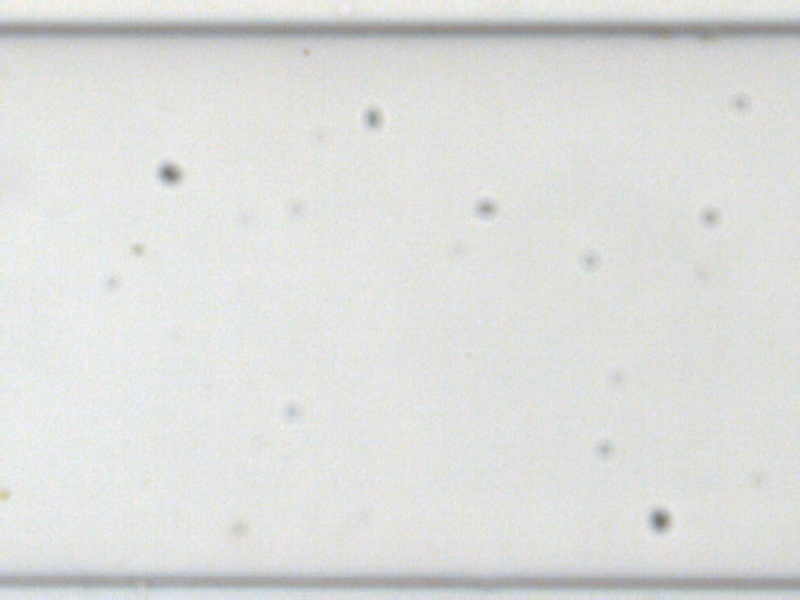Chlorella: (230, 518, 245, 533), (130, 239, 143, 253), (0, 489, 9, 498), (302, 48, 310, 55)
